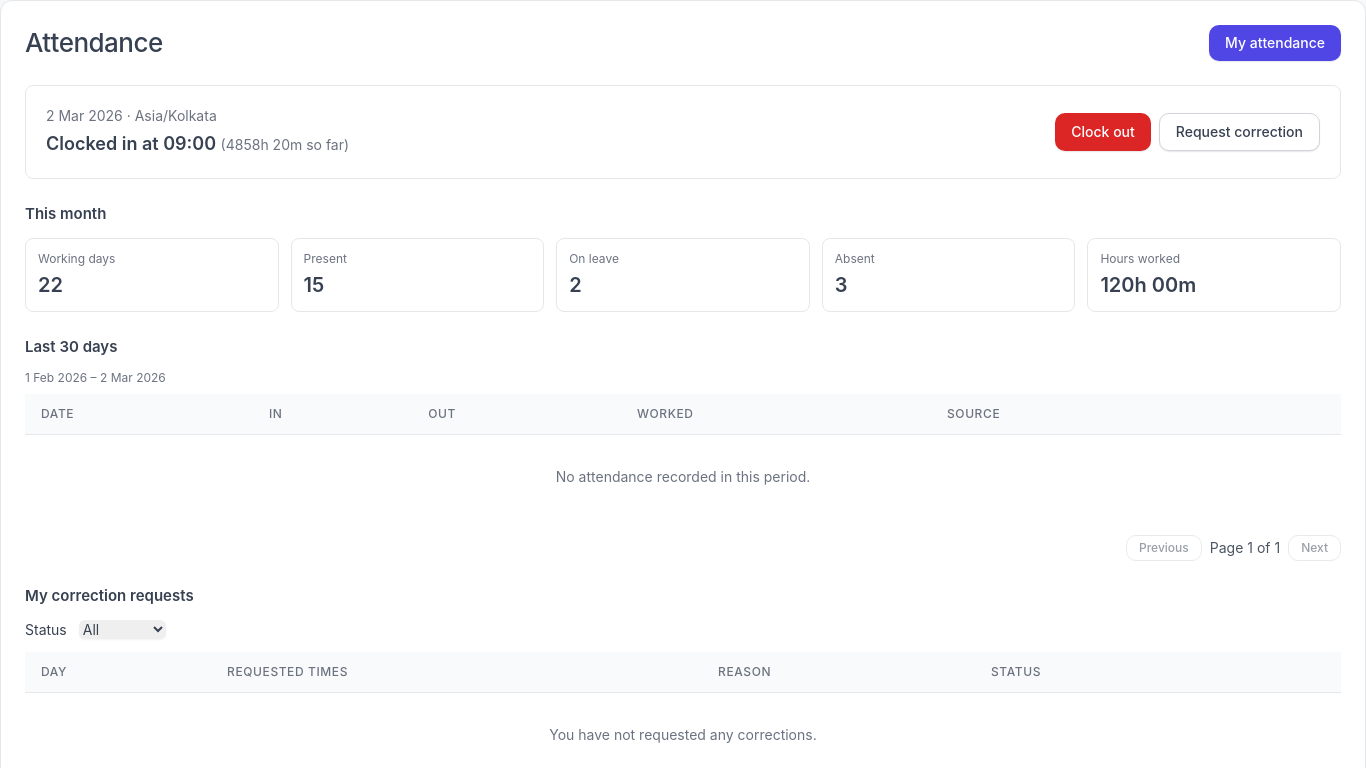
Test: Attendance page › clocking › clocks out and shows the day's worked time
What coordinates should you click on to do the following:
click the button "Clock out"
I would click on:
 (1103, 132)
Its box is [1055,113,1151,151].
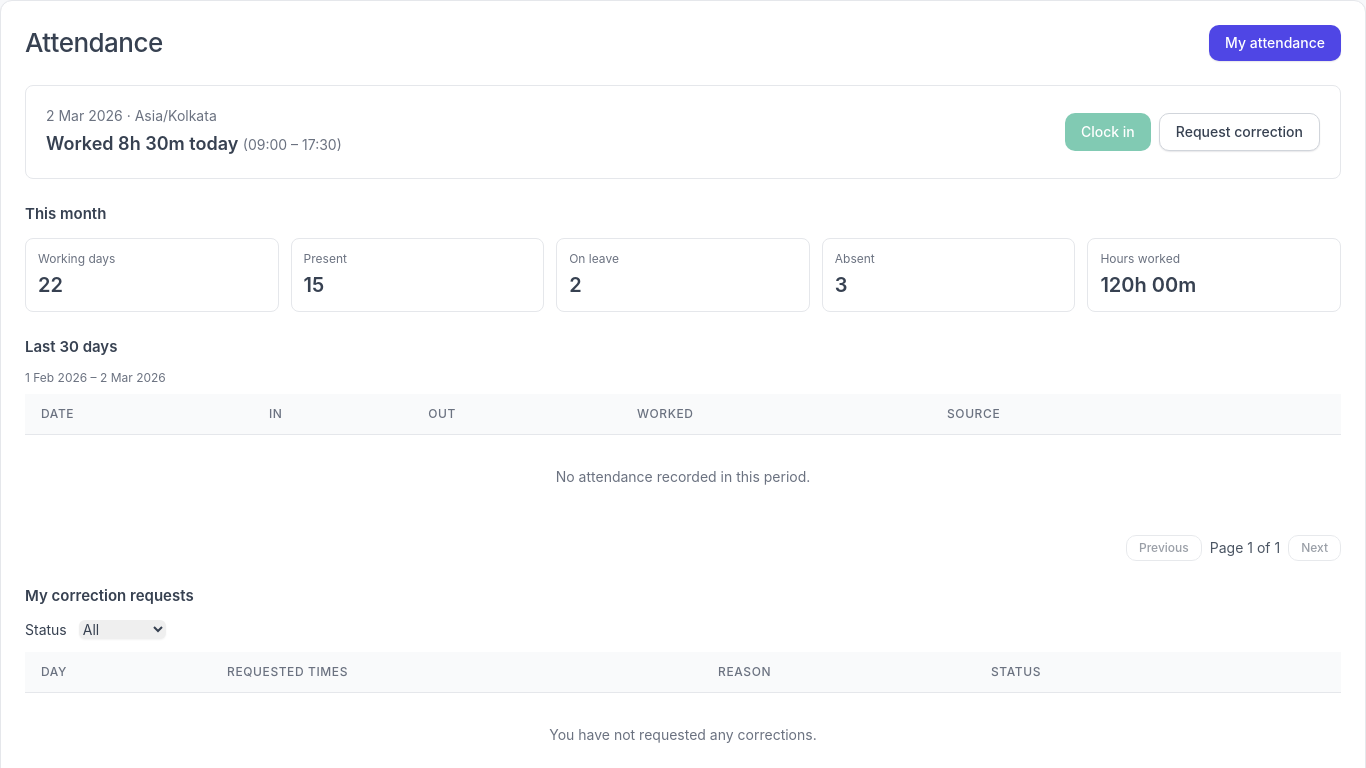
Result: the text "Worked 8h 30m today (09:00 – 17:30)" is shown at [46,130,342,158]
Result: the button "Clock in" is disabled at [1065,113,1151,151]
